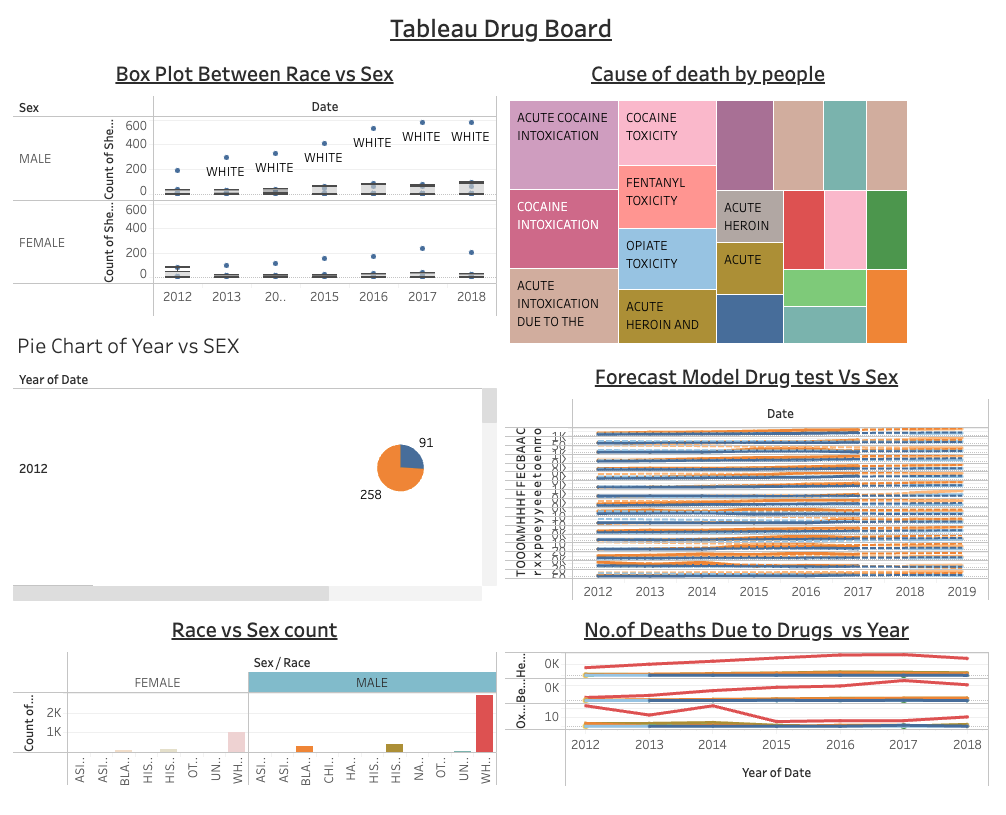

The page's visual inventory and layout, read from the dashboard file:
{"tool":"tableau","page":{"name":"Dashboard 1","canvas":[1000,800],"ordinal":0},"visuals":[{"type":"title","box":[8,8,984,41]},{"type":"worksheet","title":"Sheet 3","mark":"Circle","rows":["Sex","Sheet1_9E85D366A7E04462B79D5A63AFFDCFDB"],"cols":["Date"],"box":[8,49,492,272]},{"type":"worksheet","title":"Sheet 5","mark":"Automatic","box":[500,49,492,303.3]},{"type":"worksheet","title":"Sheet 1","mark":"Pie","rows":["Date"],"box":[8,321,492,285.3]},{"type":"worksheet","title":"Sheet 2","mark":"Automatic","rows":["Sheet1_9E85D366A7E04462B79D5A63AFFDCFDB","Amphet","AnyOpioid","Benzodiazepine","Cocaine","Ethanol","Fentanyl","Fentanyl_Analogue","Heroin","Hydrocodone","Hydromorphone","Methadone"],"cols":["Date"],"box":[500,352.3,492,254]},{"type":"worksheet","title":"Sheet 6","mark":"Automatic","rows":["Sheet1_9E85D366A7E04462B79D5A63AFFDCFDB"],"cols":["Sex","Race"],"box":[8,606.2,492,185.8]},{"type":"worksheet","title":"Sheet 4","mark":"Automatic","rows":["Heroin","Benzodiazepine","Oxymorphone"],"cols":["Date"],"box":[500,606.2,492,185.8]}]}

Visuals, with their boxes in screenshot pixels (x1, y1, x2, y2), scaled from the page's 1000x800 canvas onto the 1006x815 screenshot:
title: <bbox>8, 8, 998, 50</bbox>
"Sheet 3" worksheet (Circle marks): <bbox>8, 50, 503, 327</bbox>
"Sheet 5" worksheet: <bbox>503, 50, 998, 359</bbox>
"Sheet 1" worksheet (Pie marks): <bbox>8, 327, 503, 618</bbox>
"Sheet 2" worksheet: <bbox>503, 359, 998, 618</bbox>
"Sheet 6" worksheet: <bbox>8, 618, 503, 807</bbox>
"Sheet 4" worksheet: <bbox>503, 618, 998, 807</bbox>
